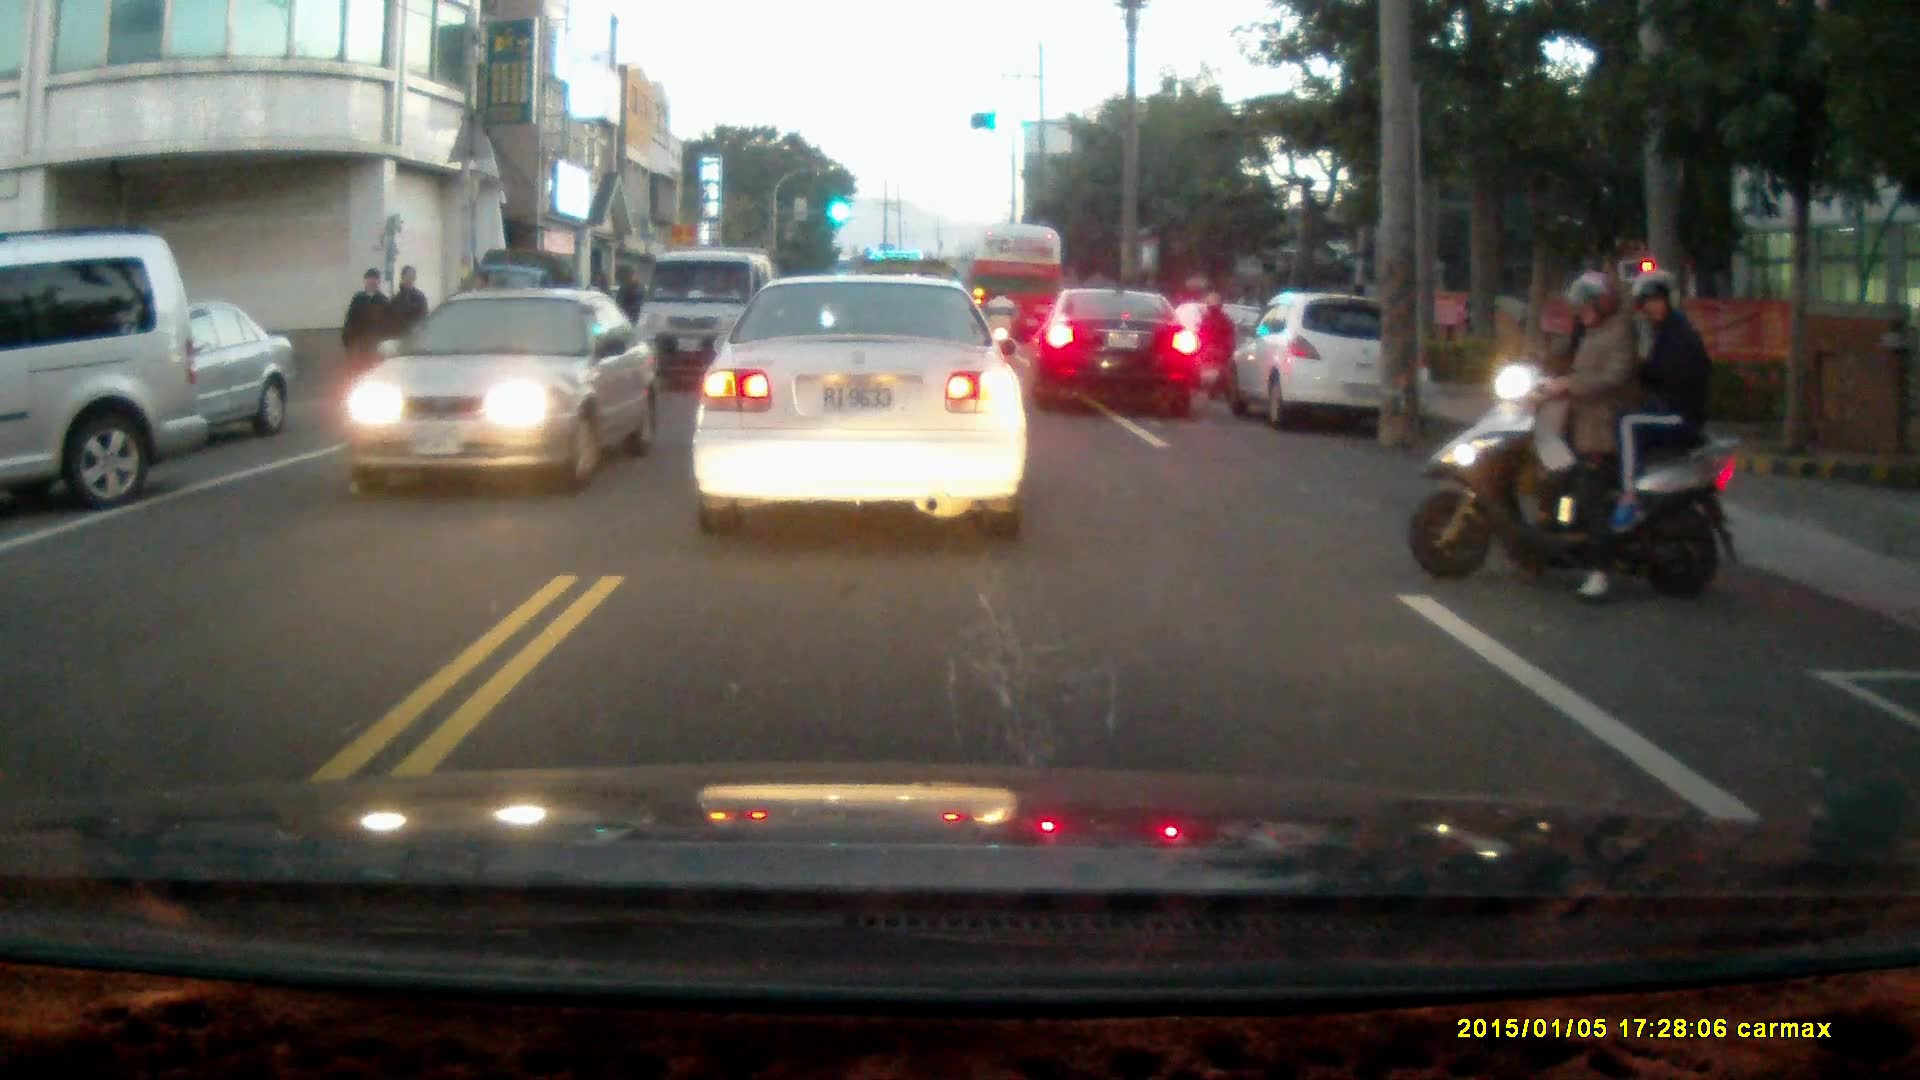pedestrian: (338, 264, 396, 422), (383, 264, 429, 394), (615, 269, 644, 353)
rider: (1410, 266, 1744, 606), (1191, 291, 1239, 401), (980, 286, 1019, 362)
vehicle: (692, 267, 1030, 540), (346, 286, 664, 495), (1, 223, 208, 508), (24, 293, 299, 447), (1240, 291, 1434, 436), (1030, 291, 1207, 419), (641, 247, 778, 388), (965, 223, 1069, 357)
